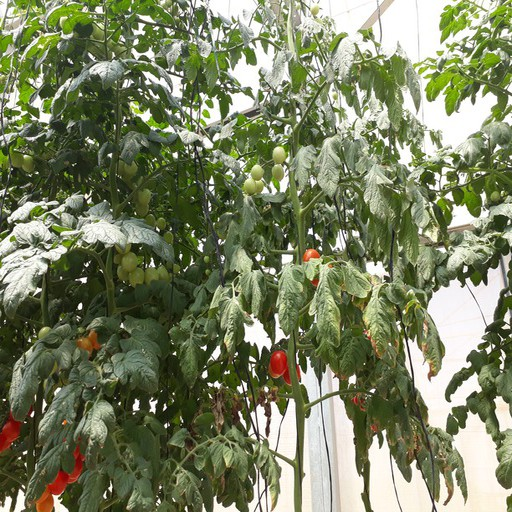green tomato bunch: (113, 157, 176, 240), (60, 7, 127, 59), (114, 242, 182, 291), (241, 144, 292, 202), (1, 142, 36, 173)
mixed tomato bunch: (35, 327, 115, 377)
red tomato bunch: (36, 418, 84, 512), (345, 390, 386, 439), (1, 395, 35, 452), (296, 249, 337, 287), (270, 348, 302, 388)
